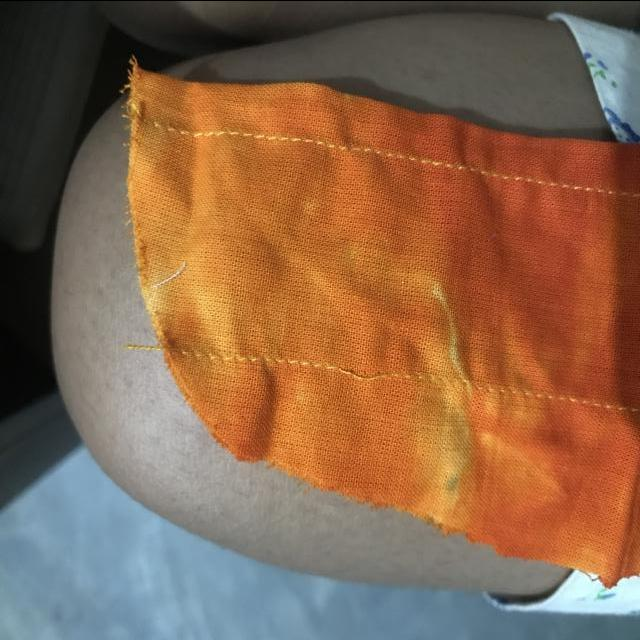Skip: (322, 348, 406, 393)
